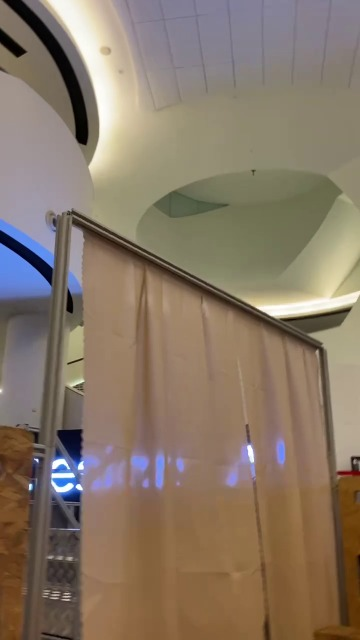curtain: (61, 211, 338, 640)
